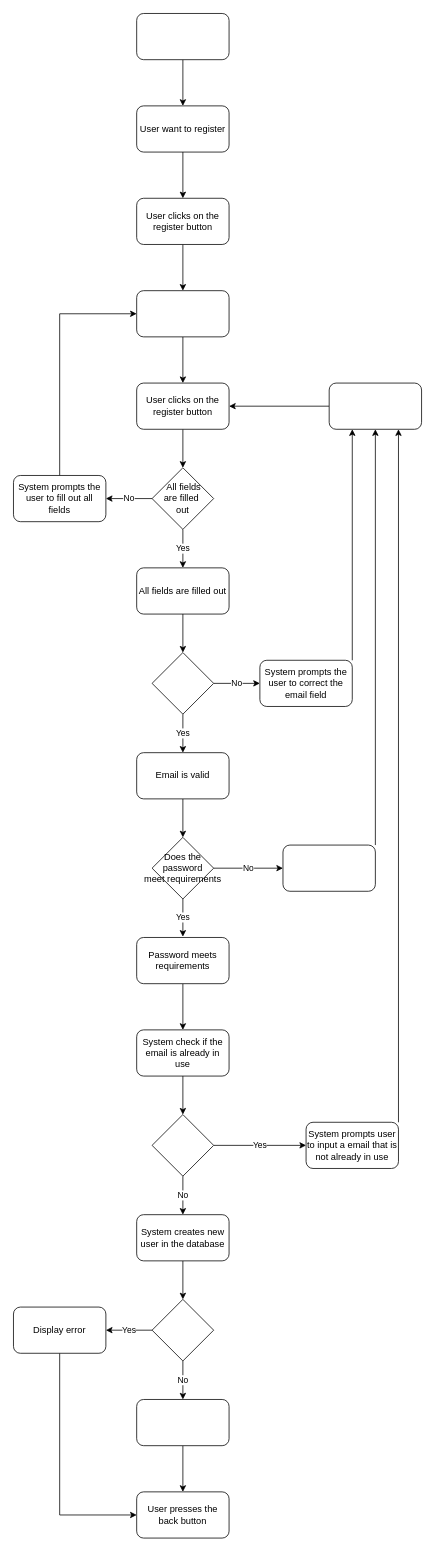
Some shapes in this 435 by 1552 pixel diagram are drawn without their labels. The box of each missing label's shape, as (x1, y1, x2, y2) in pixels:
Display to user that the account has been created: (136, 1399, 229, 1446)
Email already in use: (151, 1114, 214, 1176)
Is the email input valid: (151, 652, 214, 714)
System prompts user to input a password that meets the requirements: (282, 844, 375, 891)
User corrects the required input fields: (328, 382, 422, 429)
User fills out the required fields: (136, 290, 229, 337)
User starts app: (136, 13, 229, 60)
Was there an error while saving: (151, 1299, 214, 1361)
